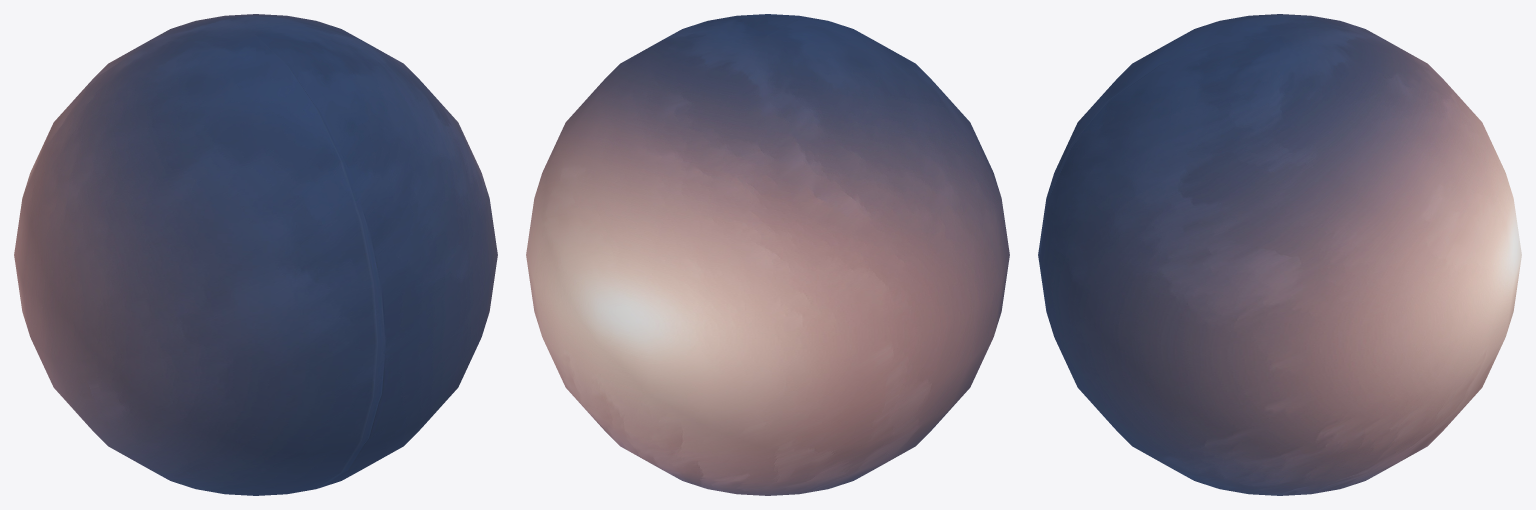
3 renders of one model, left to right at view 1: azimuth 30°, elevation 25°; view 2: azimuth 150°, elevation 25°; view 3: azimuth 270°, elevation 25°, orthographic.
Parts seen in each view (by area): view 1: Sky; view 2: Sky; view 3: Sky.
Part boxes in pixels (x1,y1,x2,y2): Sky: (14, 14, 497, 495); Sky: (526, 14, 1009, 495); Sky: (1038, 14, 1521, 495).
Bounding box in the file's own units: 12.02 × 12.02 × 12.02.
5 materials, 5 textured.
